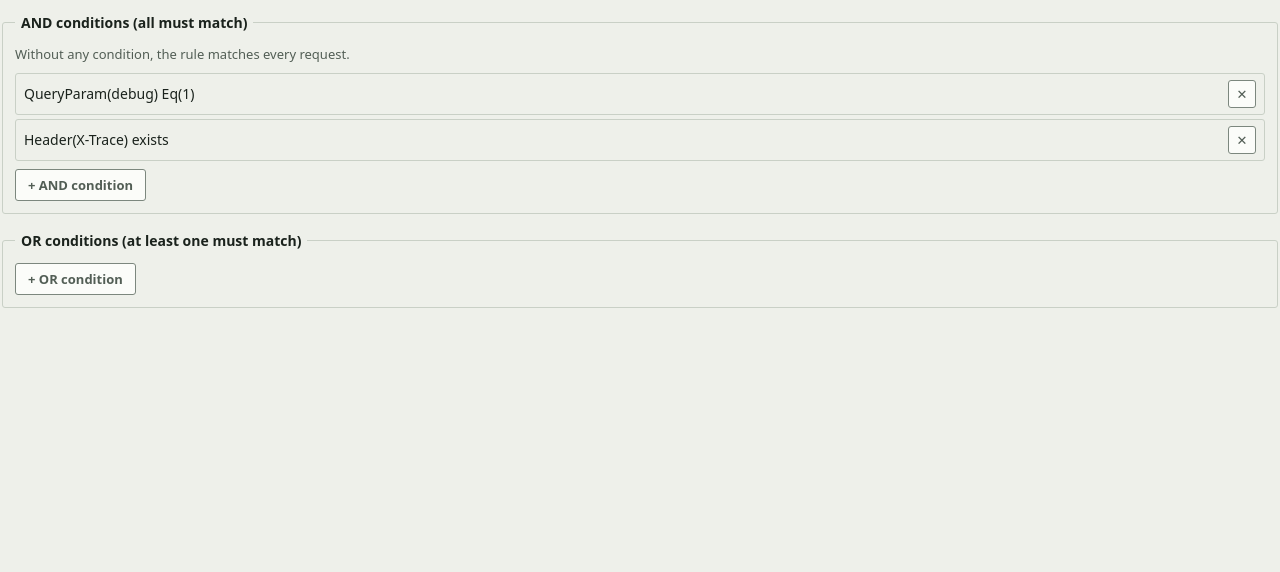
Scenario: RuleConditionsEditor: in-place edit of an existing condition › cancelling the edit closes the form and changes nothing
Click the button with test id "rule-form-edit-condition-allof-button-0". click: (109, 94)
box: left=18, top=79, right=1226, bottom=108
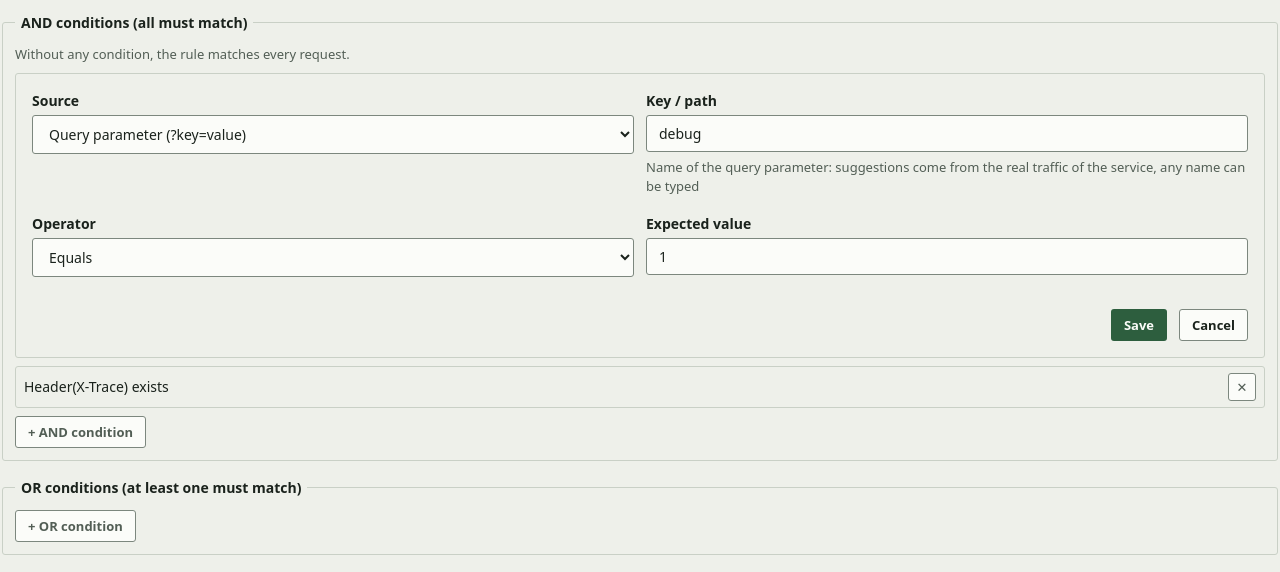
Replace the text in the field labelled "Expected value" with "devrait-etre-ignore". click: (947, 256)
box: left=646, top=238, right=1248, bottom=274
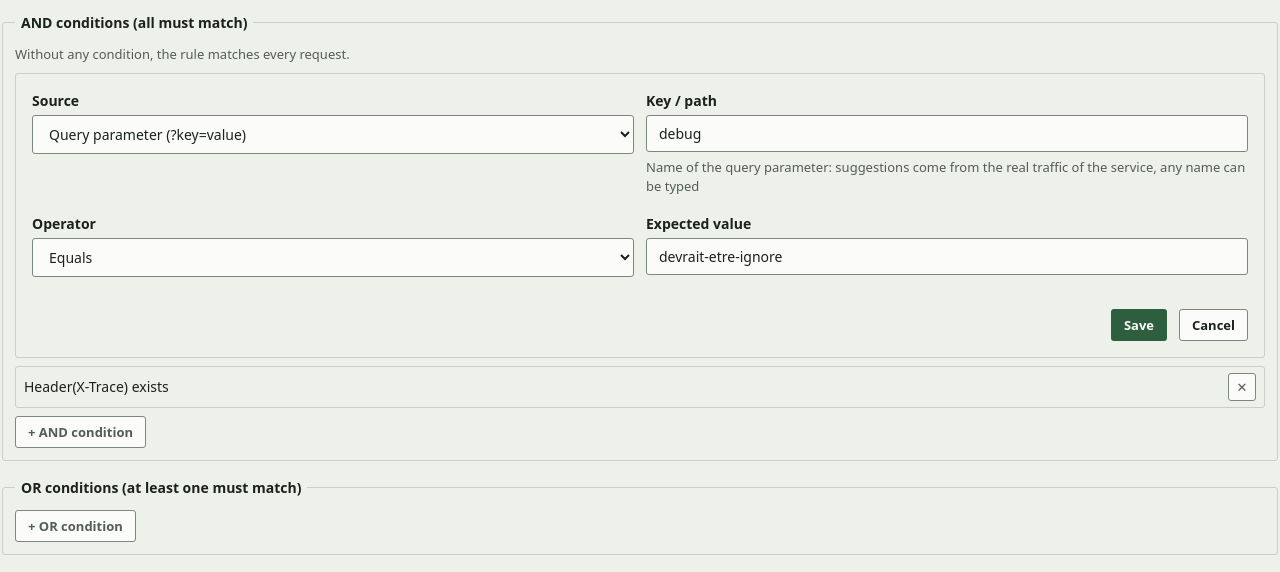
Click the button with test id "condition-form-cancel-button". click: (1214, 324)
box: left=1179, top=308, right=1248, bottom=340
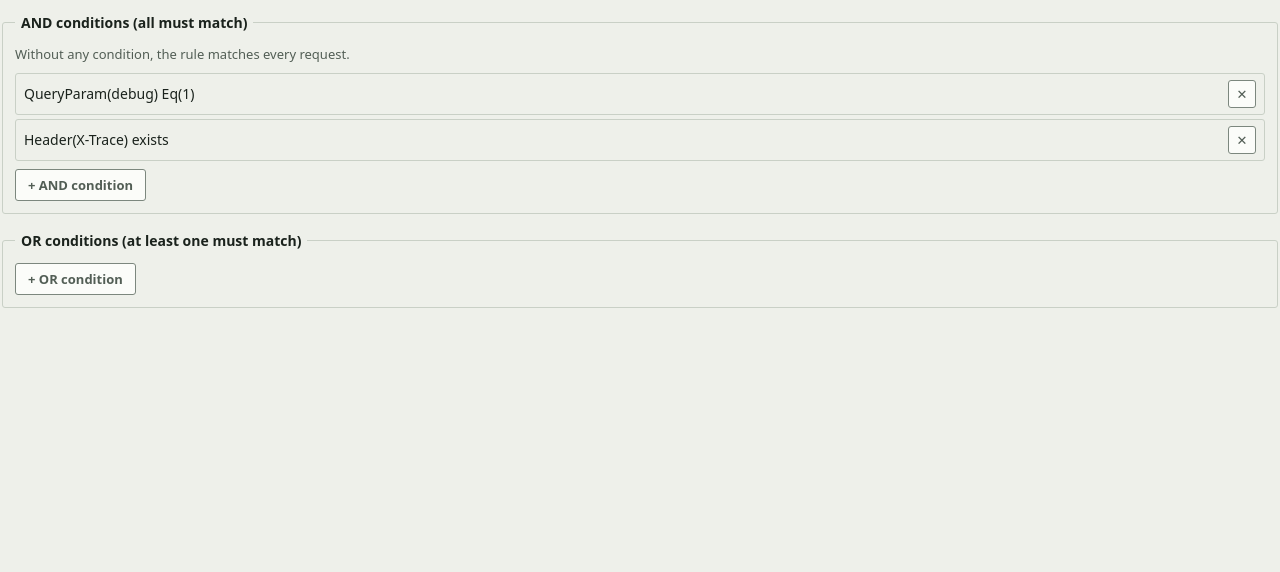
Check: the button with test id "rule-form-edit-condition-allof-button-0" reads "QueryParam(debug) Eq(1)", box left=18, top=79, right=1226, bottom=108
